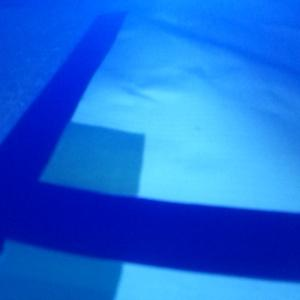bottom_right: (1, 196, 123, 300)
top_right: (18, 121, 145, 241)
